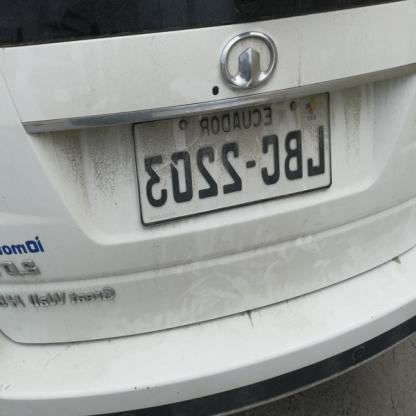Placa: (132, 86, 328, 227)
